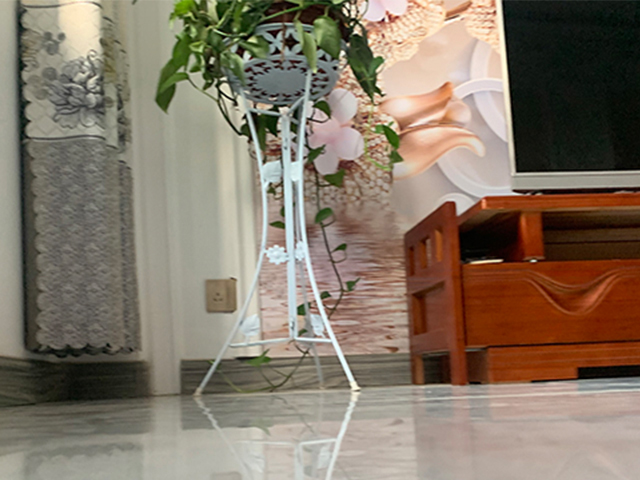cabinet: (403, 192, 640, 386)
curtain: (14, 1, 143, 359)
